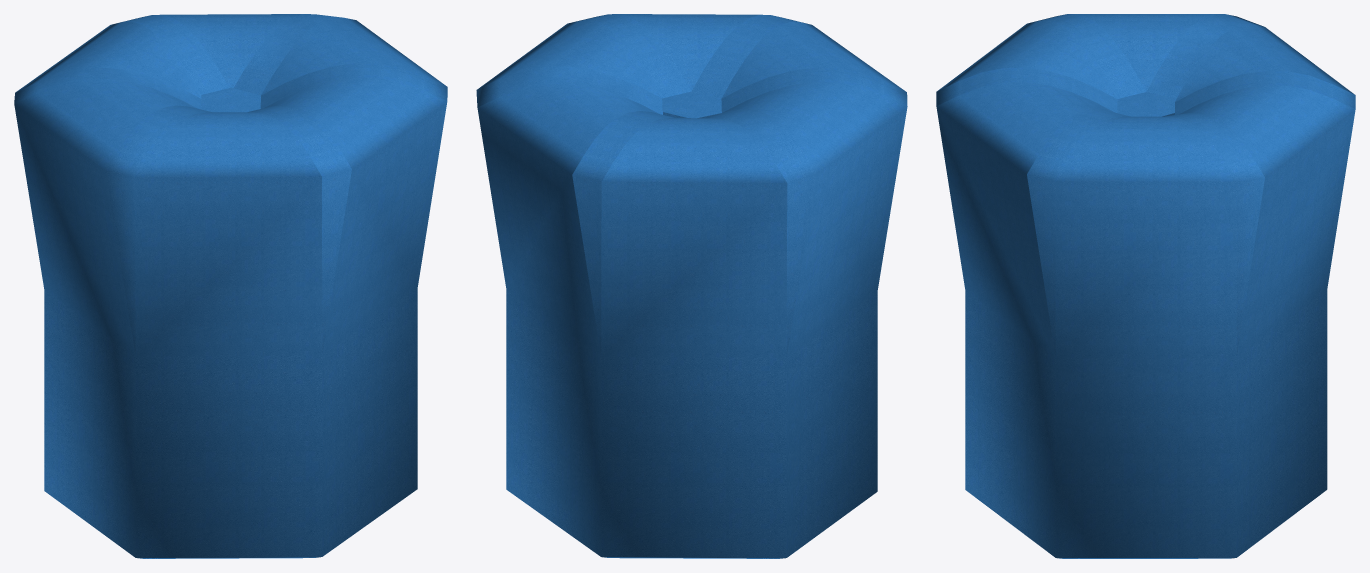
File: hat 2.dae
3 renders of one model, left to right at view 1: azimuth 30°, elevation 25°; view 2: azimuth 150°, elevation 25°; view 3: azimuth 270°, elevation 25°, orthographic.
Parts seen in each view (by area): view 1: instance_0; view 2: instance_0; view 3: instance_0.
Part boxes in pixels (bbox=[...]): instance_0: bbox=[14, 14, 447, 558]; instance_0: bbox=[476, 14, 907, 558]; instance_0: bbox=[936, 14, 1355, 558].
Bounding box in the file's own units: 0.4805 × 0.5147 × 0.5714.
Materials: 1 (1 with a texture image).
